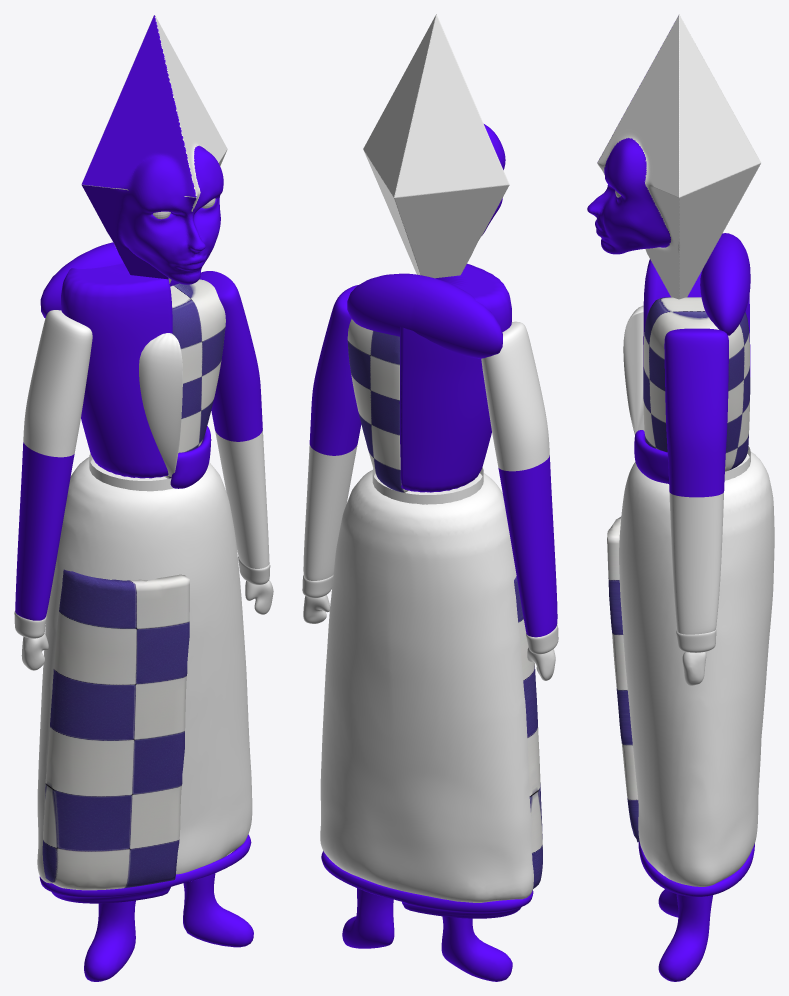
Rendered from Purple.fbx.
The picture shows the model from 3 angles, left to right: view 1: azimuth 30°, elevation 25°; view 2: azimuth 150°, elevation 25°; view 3: azimuth 270°, elevation 25°; orthographic projection. The views are drawn at different scales.
Visible parts, largest first — view 1: Circle.002, Circle.001, Cone, Cylinder, Cube.002, Cube, Cylinder.002, Sphere.004, Cylinder.001, Circle.003, Sphere.002, Sphere.003 (+3 smaller); view 2: Circle.001, Cone, Cylinder, Cube.002, Cube, Sphere.002, Cylinder.002, Sphere.004, Circle.002, Circle.003, Sphere.003, Circle (+1 smaller); view 3: Circle.001, Cone, Cube, Cylinder.002, Sphere.002, Circle.002, Sphere.004, Cylinder.001, Circle.003, Cylinder.003, Cylinder, Cube.001 (+1 smaller).
Part boxes in pixels (x1,y1,x2,y2): Circle.002: [42, 569, 189, 890]; Circle.001: [37, 457, 252, 883]; Cone: [81, 14, 227, 284]; Cylinder: [61, 263, 172, 478]; Cube.002: [15, 310, 92, 620]; Cube: [200, 271, 269, 568]; Cylinder.002: [164, 279, 225, 478]; Sphere.004: [84, 873, 253, 981]; Cylinder.001: [139, 333, 182, 477]; Circle.003: [39, 834, 251, 903]; Sphere.002: [40, 242, 178, 318]; Sphere.003: [21, 580, 273, 670]; Circle.001: [320, 470, 533, 902]; Cone: [363, 14, 509, 278]; Cylinder: [399, 263, 511, 492]; Cube.002: [481, 321, 557, 637]; Cube: [303, 285, 361, 580]; Sphere.002: [347, 273, 502, 358]; Cylinder.002: [347, 319, 408, 492]; Sphere.004: [342, 888, 512, 981]; Circle.002: [514, 576, 542, 888]; Circle.003: [321, 851, 533, 918]; Sphere.003: [303, 595, 555, 680]; Circle: [372, 467, 483, 504]; Circle.001: [619, 451, 774, 886]; Cone: [587, 14, 760, 299]; Cube: [664, 328, 728, 634]; Cylinder.002: [643, 297, 750, 471]; Sphere.002: [700, 233, 750, 335]; Circle.002: [607, 516, 639, 842]; Sphere.004: [658, 889, 712, 981]; Cylinder.001: [623, 305, 644, 434]; Circle.003: [638, 841, 754, 896]; Cylinder.003: [634, 430, 668, 483]; Cylinder: [643, 259, 750, 376]; Cube.001: [676, 629, 716, 652].
Size of the model in its own units: 521 by 1887 by 346.
3 materials, 1 textured.
